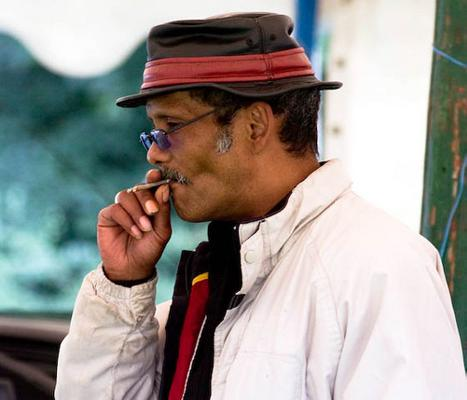person: (52, 10, 467, 400)
